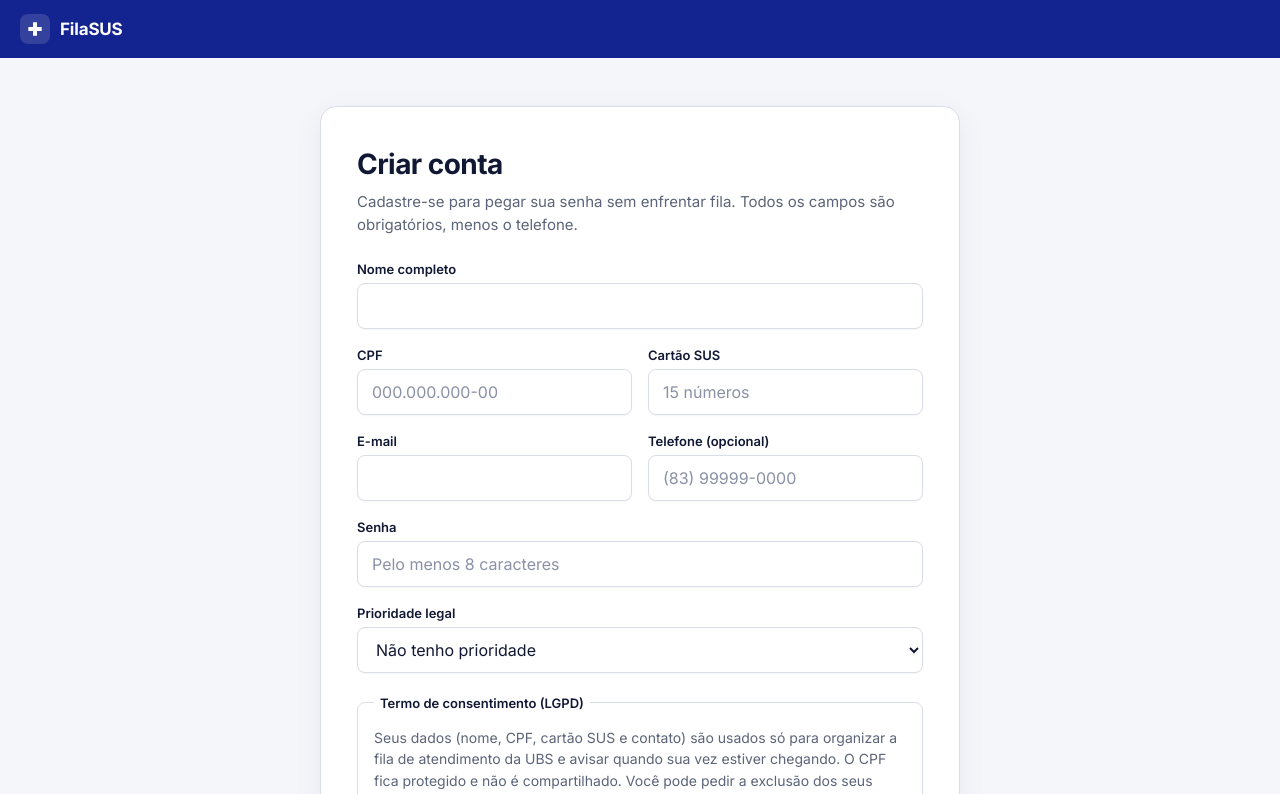
US04 - Autocadastro do paciente com consentimento › CT-US04-03 - CPF inválido › mostra "CPF inválido" no campo quando o servidor recusa o CPF
Type "Maria da Silva" into the field labelled "Nome completo".
click(640, 306); type("Maria da Silva")  # box [357,282,923,328]
Type "529.982.247-25" into the field labelled "CPF".
click(494, 392); type("529.982.247-25")  # box [357,368,632,414]
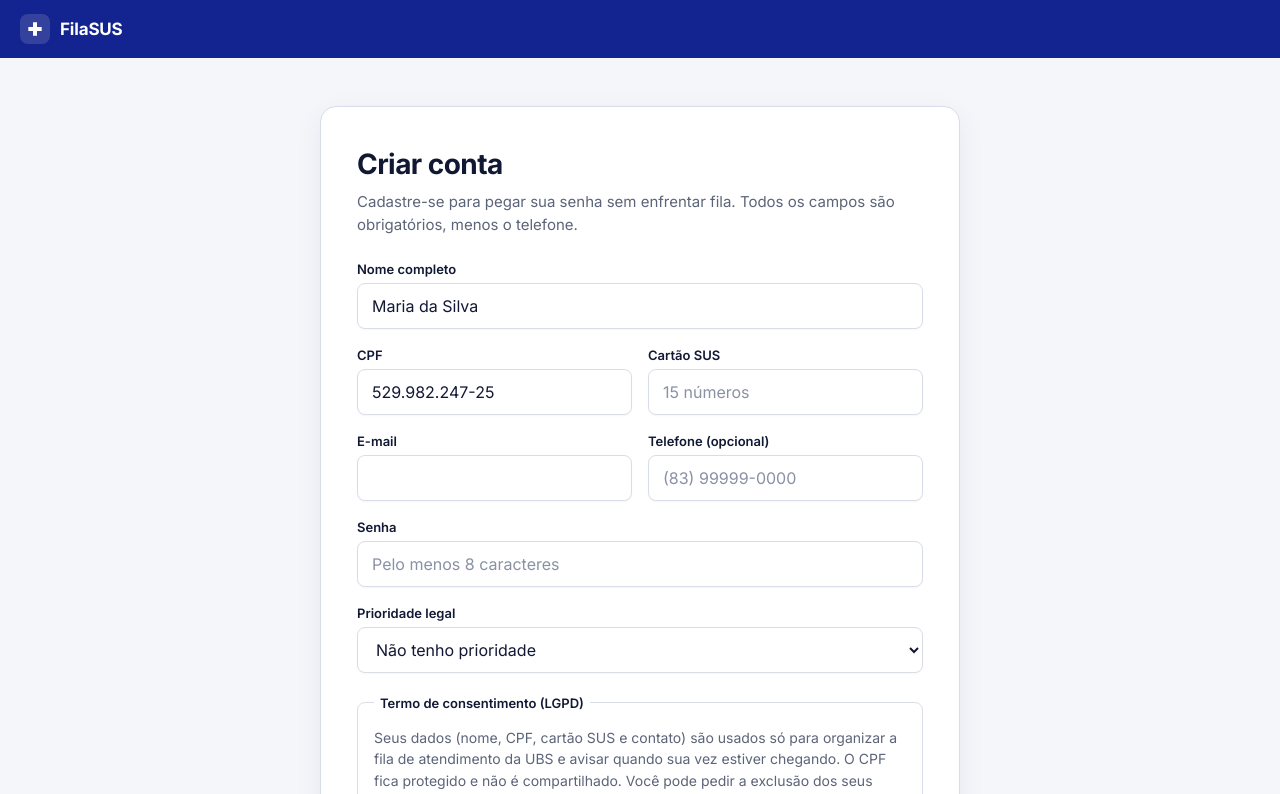
Type "898001234567890" into the field labelled "Cartão SUS".
click(786, 392); type("898001234567890")  # box [648,368,923,414]
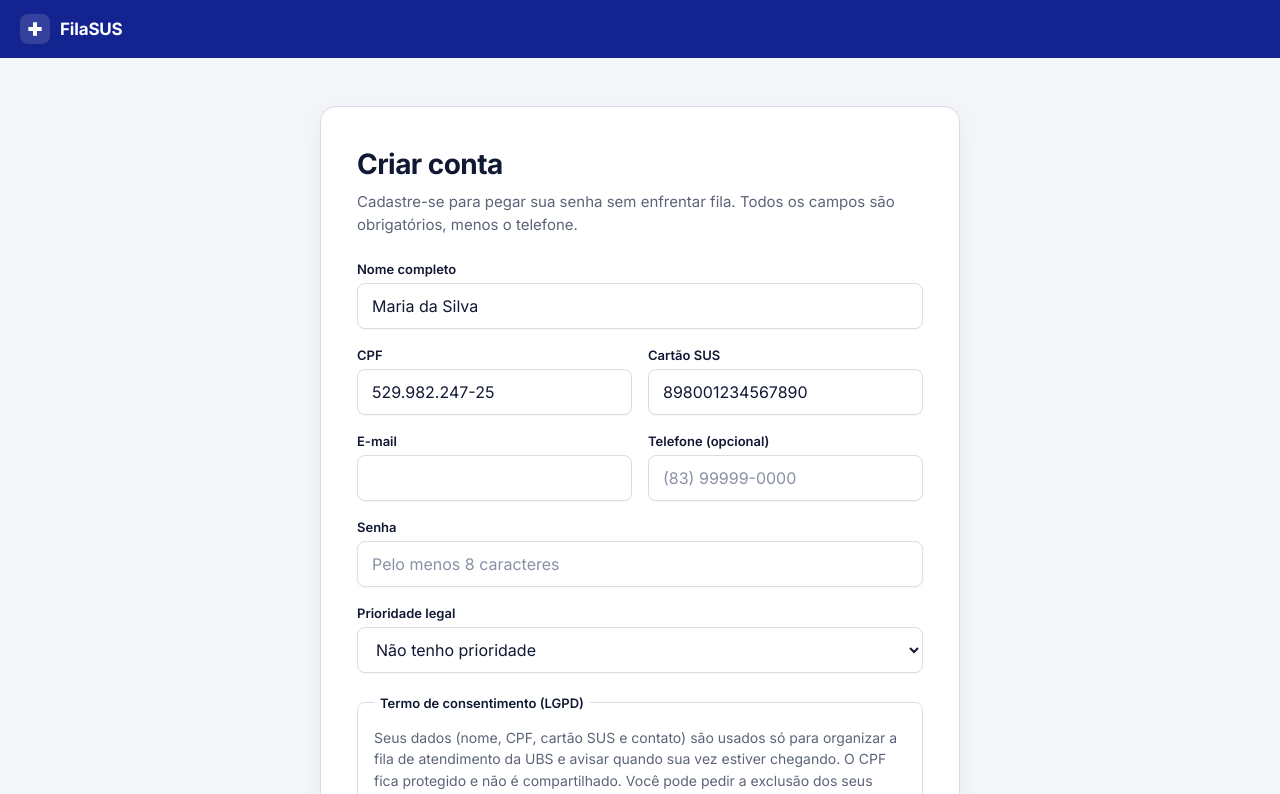
Type "maria@email.com" into the field labelled "E-mail".
click(494, 478); type("maria@email.com")  # box [357,454,632,500]
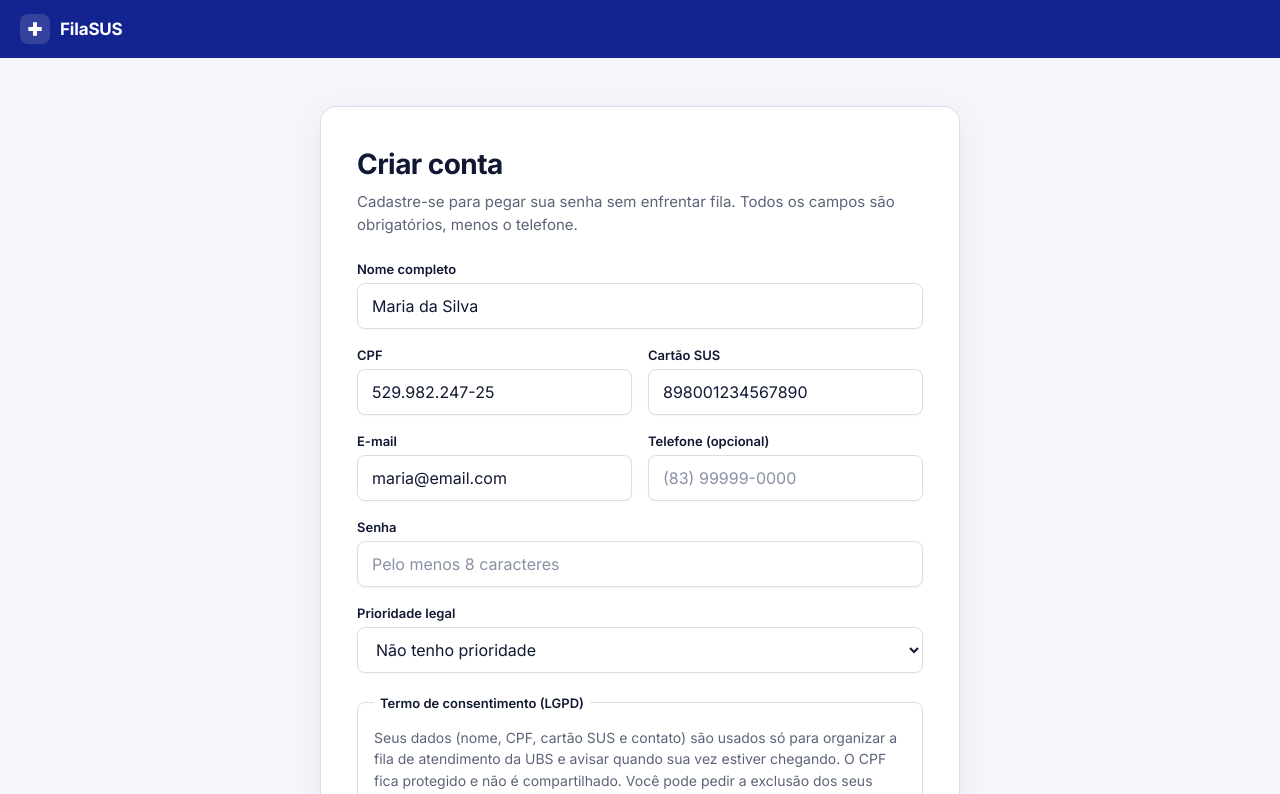
Type "senhaForte123" into the password field labelled "Senha".
click(640, 564); type("senhaForte123")  # box [357,540,923,586]
(page scrolled)
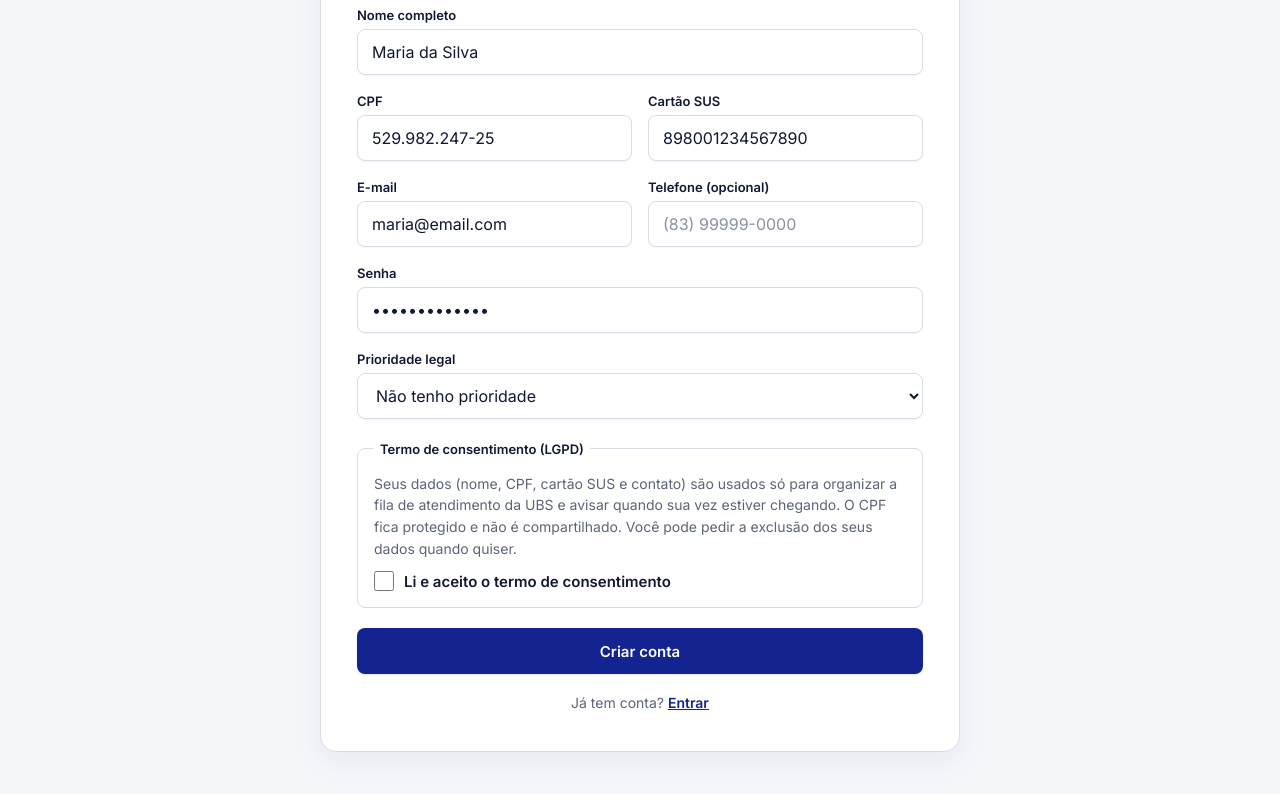
Click the checkbox labelled "Li e aceito o termo de consentimento".
click(384, 581)  # box [374,571,394,591]
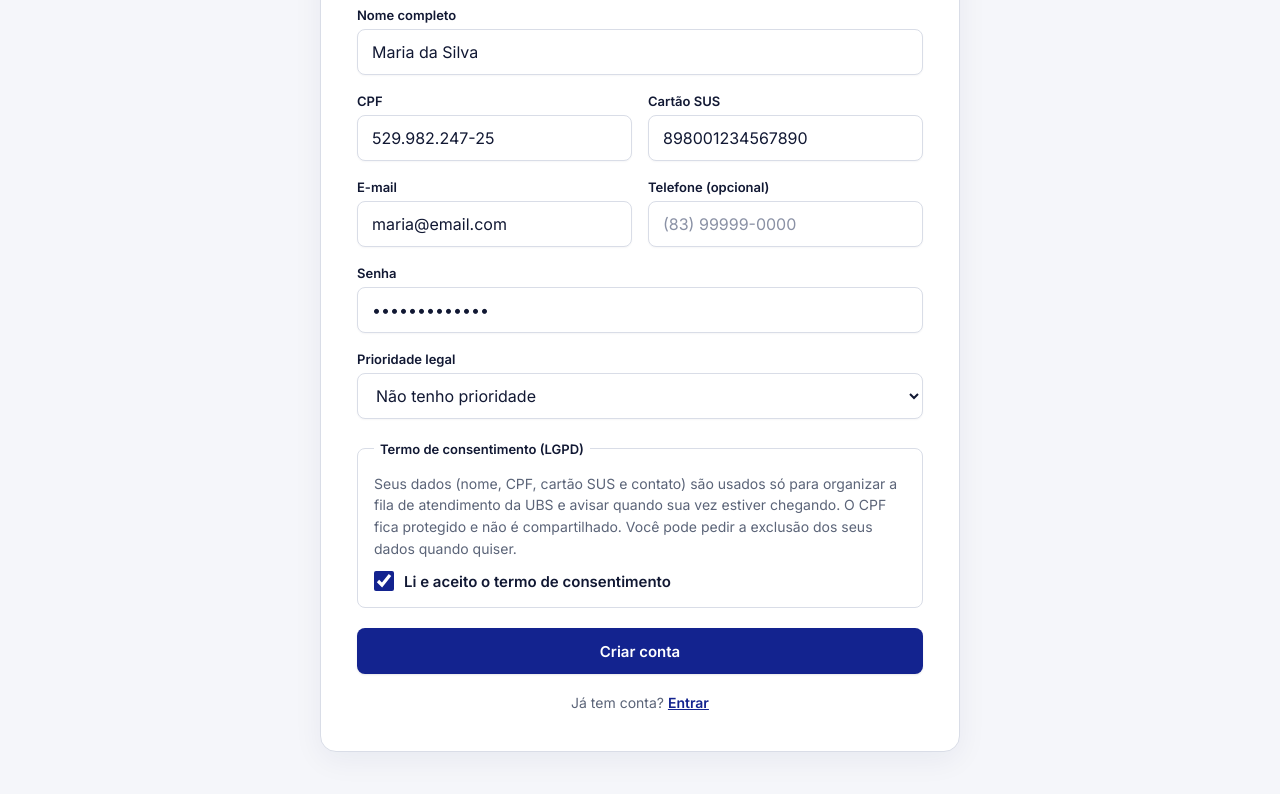
Click the button "Criar conta".
click(640, 651)  # box [357,628,923,674]
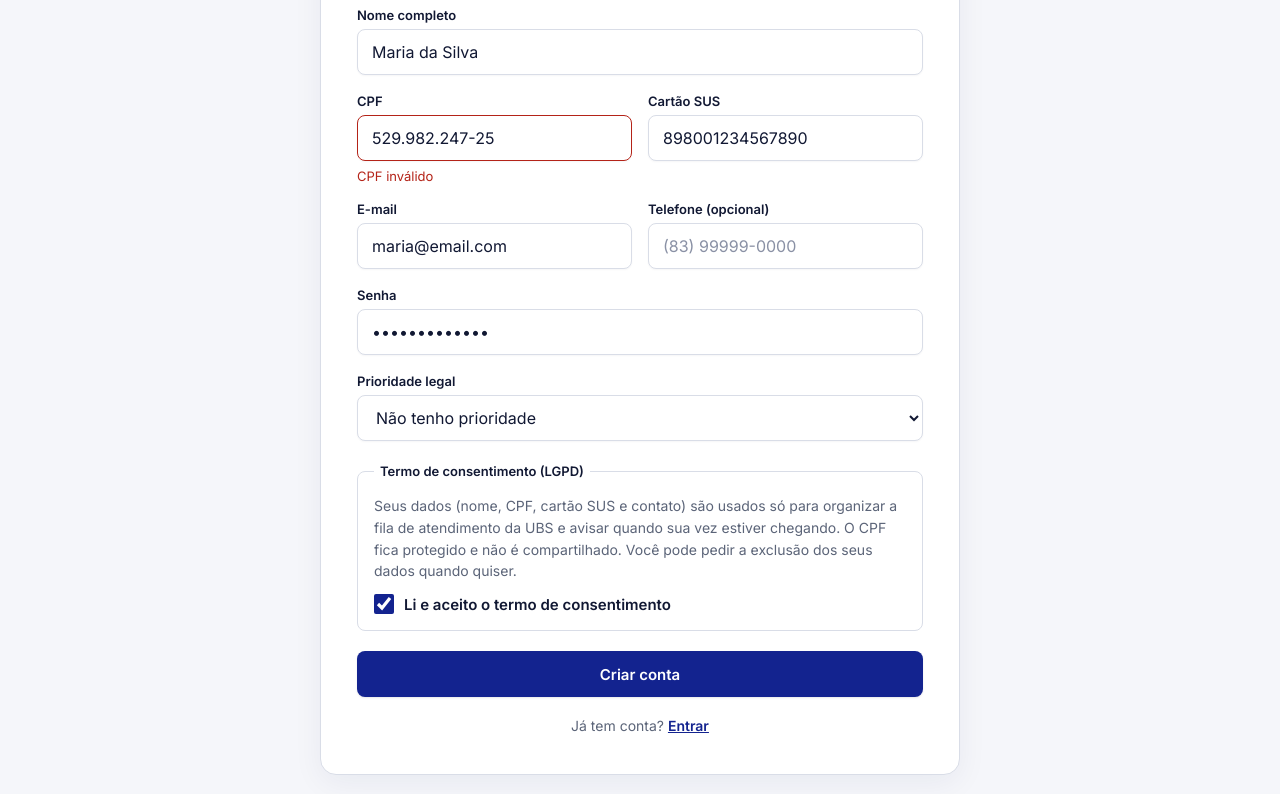
Check: the text "CPF inválido" is shown, box [357,168,433,184]
